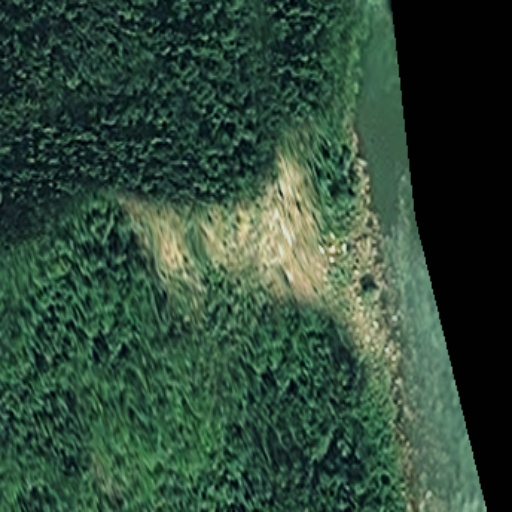landslide: (136, 157, 336, 299)
